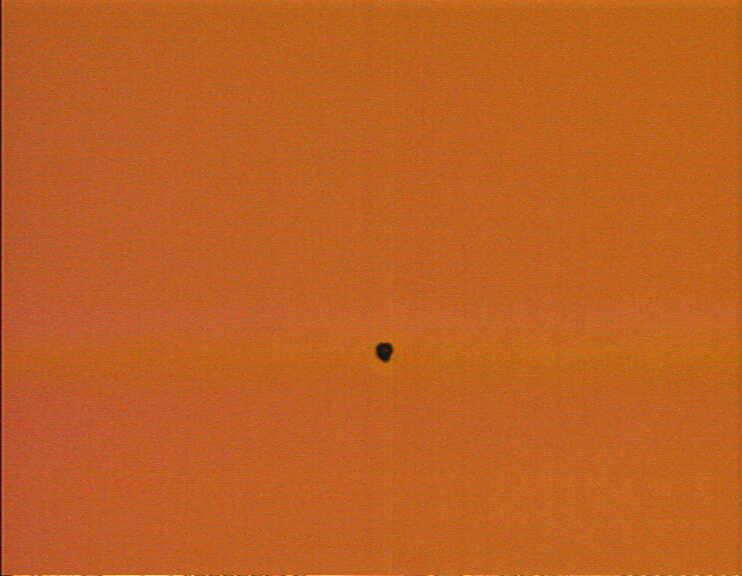PIQ PARTICLE: (371, 339, 399, 367)
